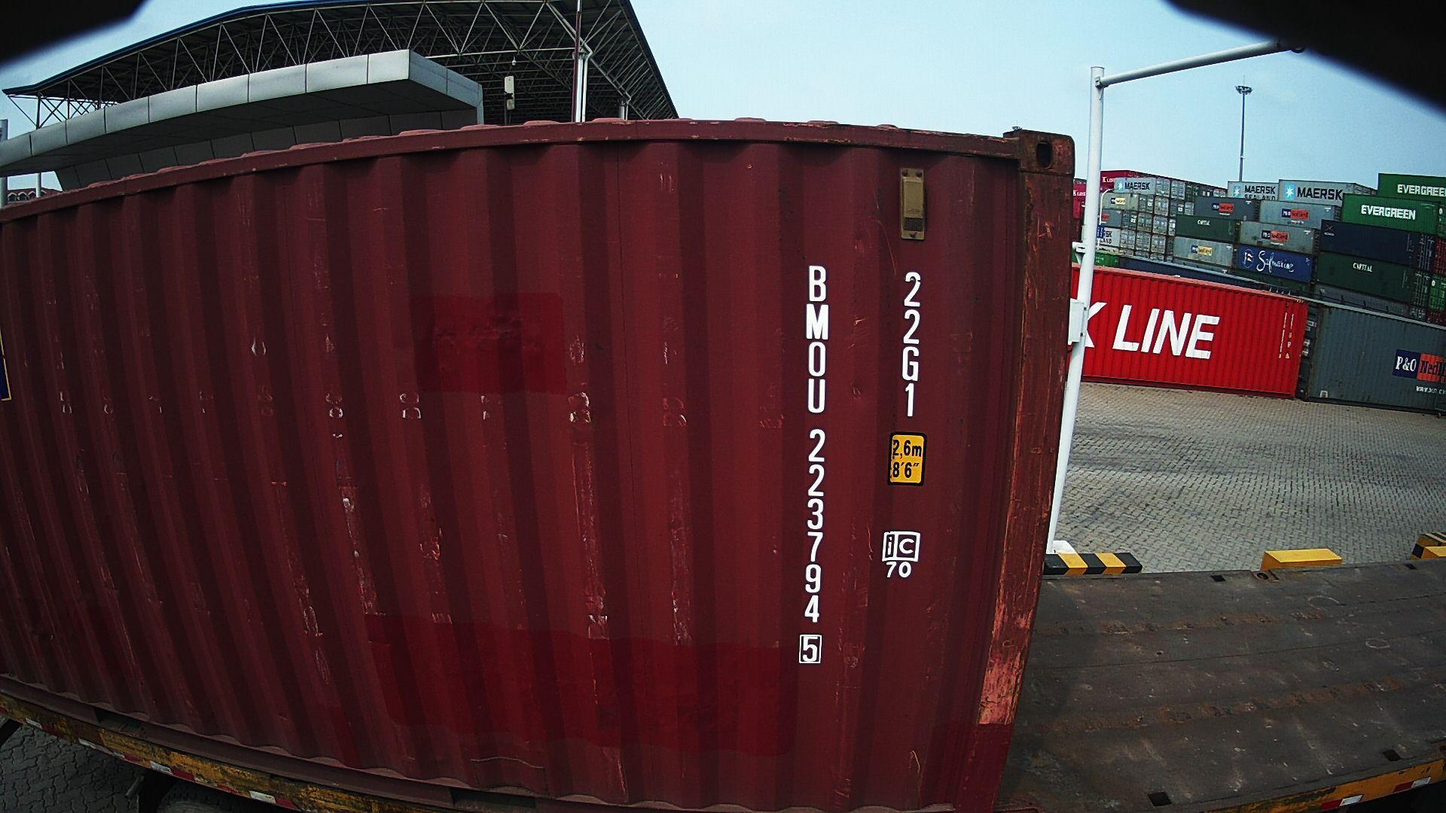container-numbers: (795, 259, 835, 671), (893, 265, 926, 422)
